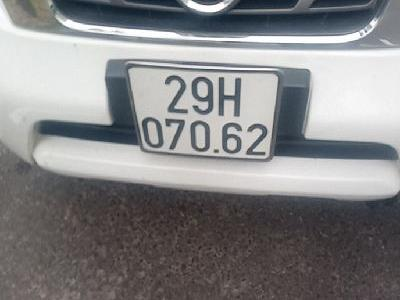lisence: (125, 61, 281, 164)
